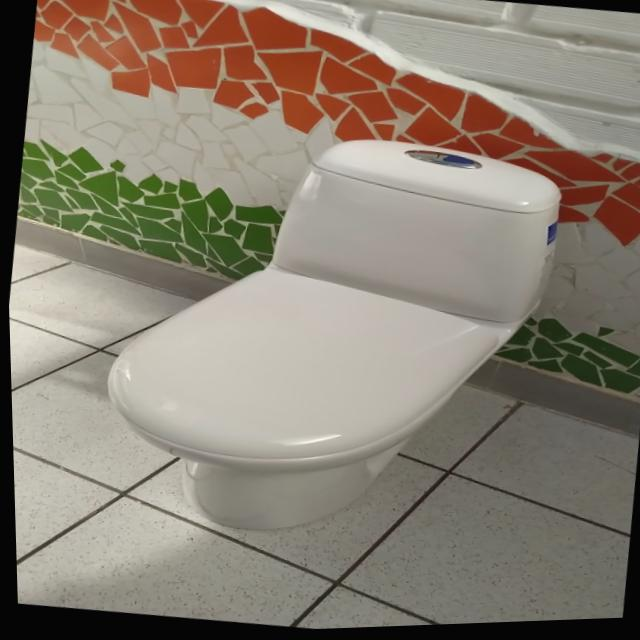toilet: (80, 105, 574, 570)
